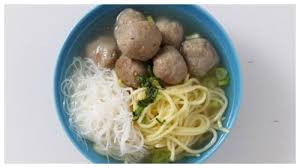bakso: (81, 19, 227, 85)
